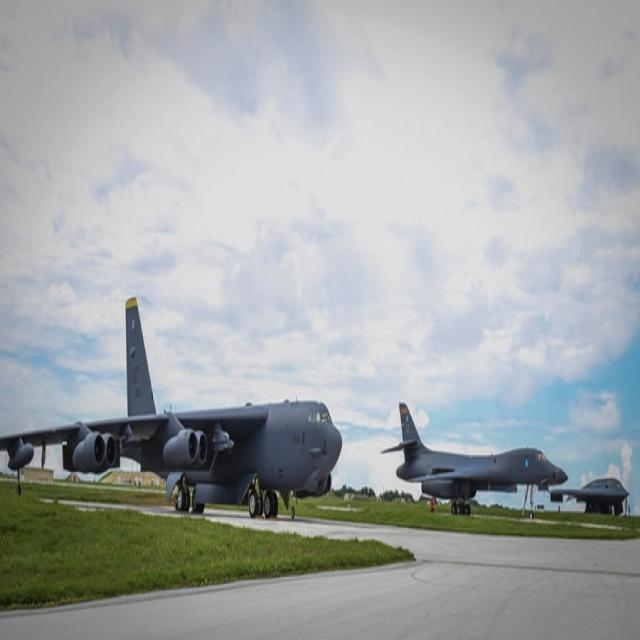MIL_Plane: (1, 295, 342, 520), (412, 402, 536, 519), (548, 478, 630, 515)
